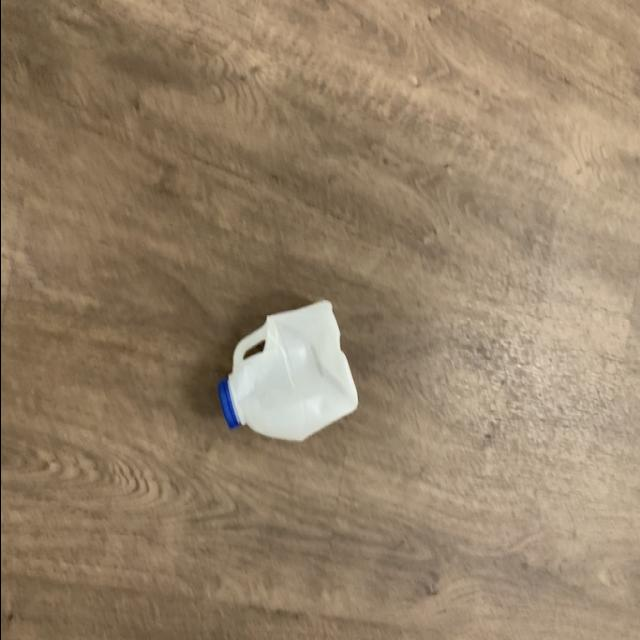litter: (209, 299, 358, 449)
